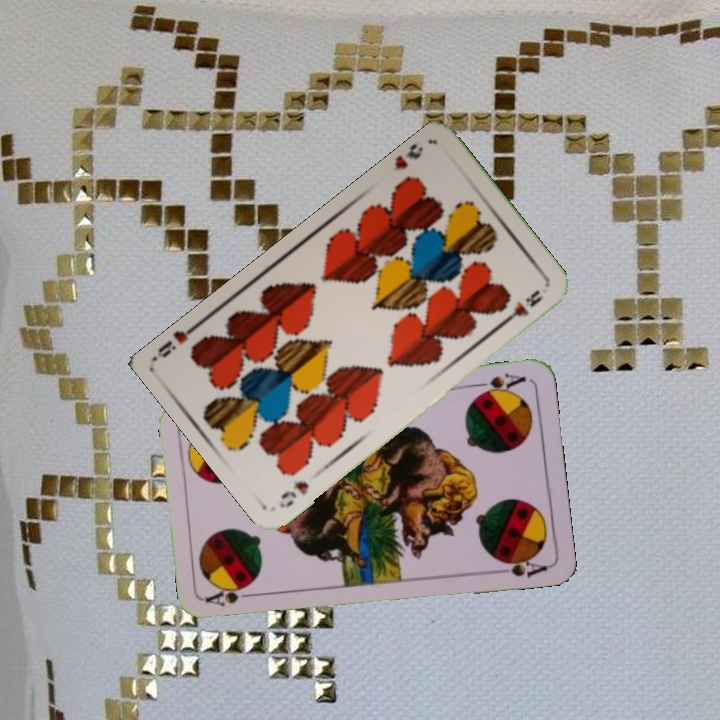H9: (275, 476, 312, 511), (390, 141, 426, 172)
SA: (470, 369, 528, 399), (202, 584, 261, 609)
